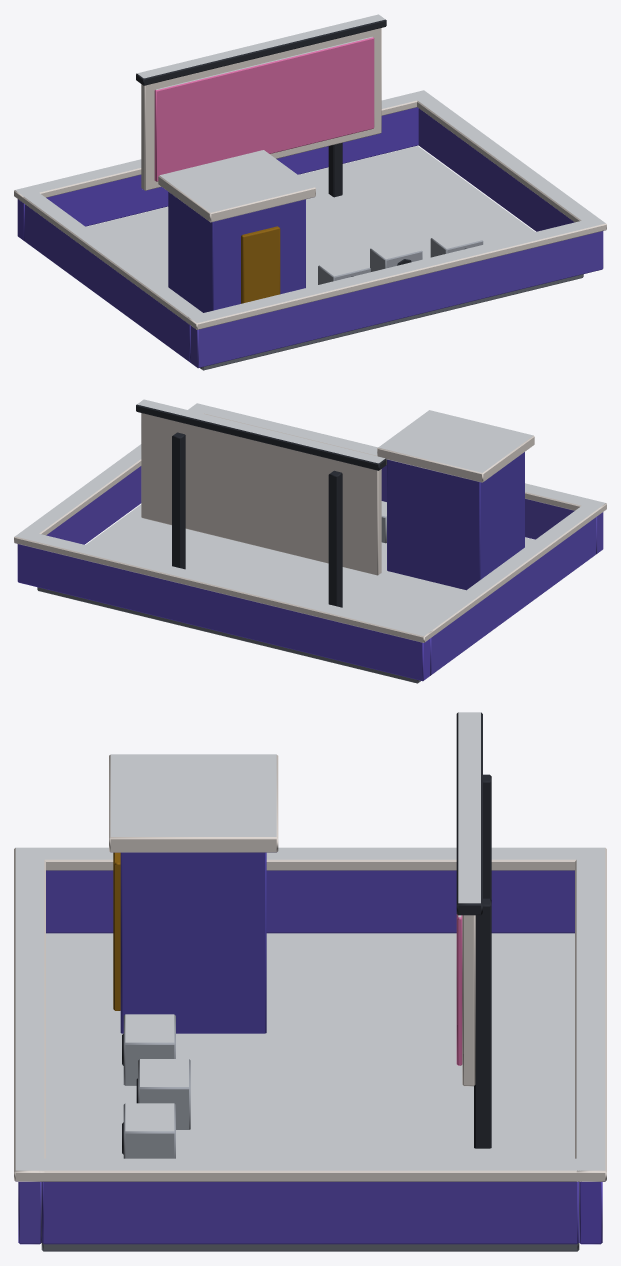
File: Apartment_Plum_Roof.glb
3 views of the same model, one above another, from view 1: azimuth 30°, elevation 25°; view 2: azimuth 150°, elevation 25°; view 3: azimuth 270°, elevation 25° (orthographic). The views are drawn at different scales.
Visible parts, largest first — view 1: Apartment_Plum_Roof; view 2: Apartment_Plum_Roof; view 3: Apartment_Plum_Roof.
Boxes of the visible parts, x1=… form: Apartment_Plum_Roof: x1=14, y1=14, x2=606, y2=370; Apartment_Plum_Roof: x1=14, y1=399, x2=606, y2=683; Apartment_Plum_Roof: x1=14, y1=712, x2=606, y2=1251.
Size of the model in its own units: 26.3 by 11.1 by 20.3.
